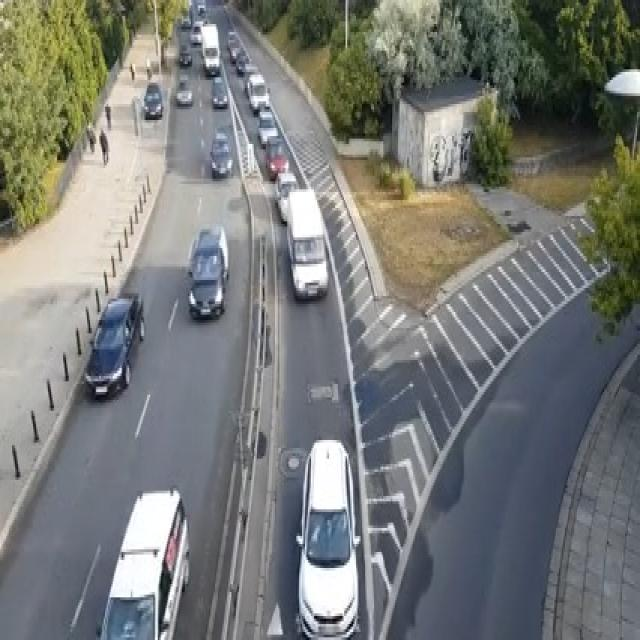car: (95, 486, 189, 638), (294, 438, 360, 638), (83, 291, 144, 397), (286, 186, 328, 298), (186, 221, 228, 320), (273, 171, 299, 221), (209, 130, 233, 178), (264, 136, 288, 179), (246, 72, 269, 115), (257, 106, 278, 146), (143, 83, 162, 117), (175, 72, 192, 107), (227, 29, 243, 62), (212, 75, 227, 106), (234, 50, 250, 74), (189, 18, 203, 42), (179, 42, 191, 66), (180, 13, 191, 27), (197, 0, 206, 13)
